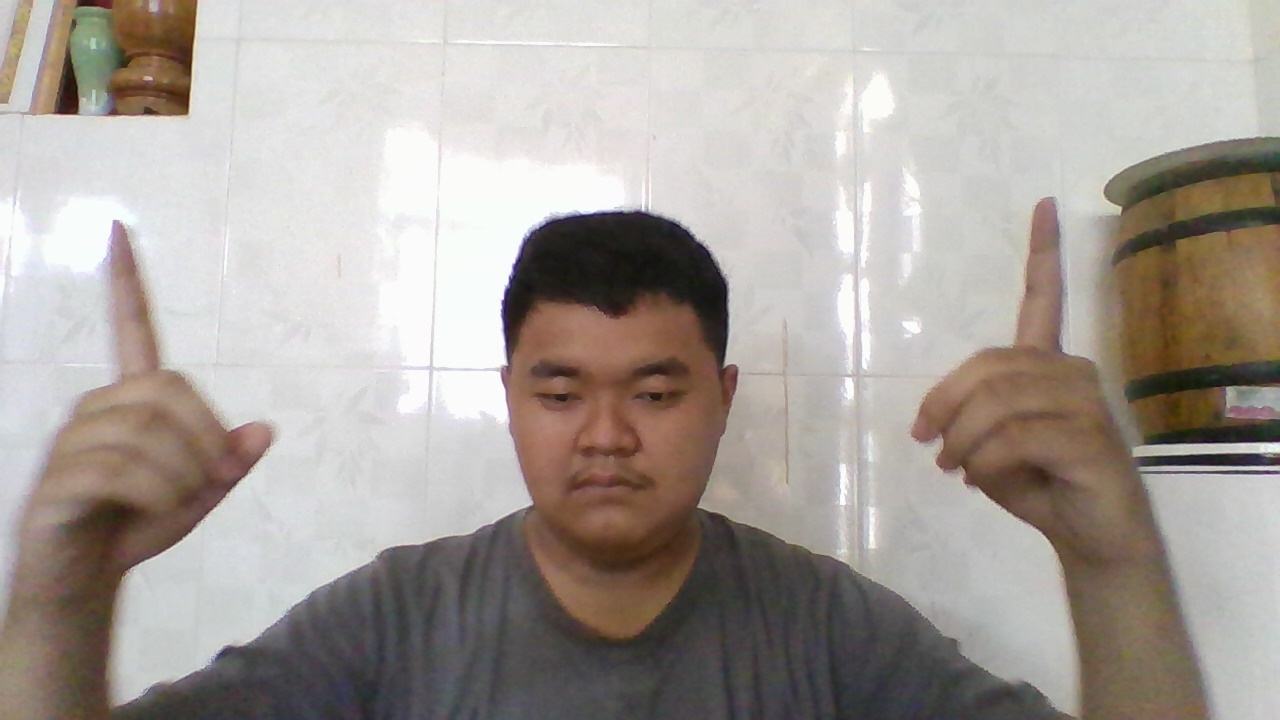D: (36, 223, 272, 595), (900, 191, 1115, 561)
